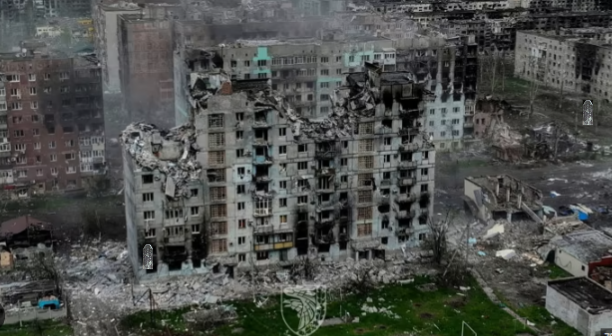HVT1: (582, 99, 593, 125), (143, 244, 153, 269)
